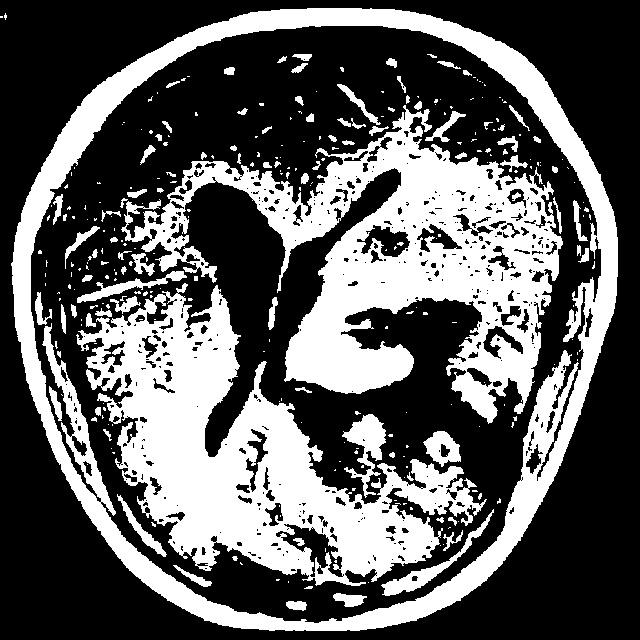Brain-Tumor: (274, 290, 543, 520)
